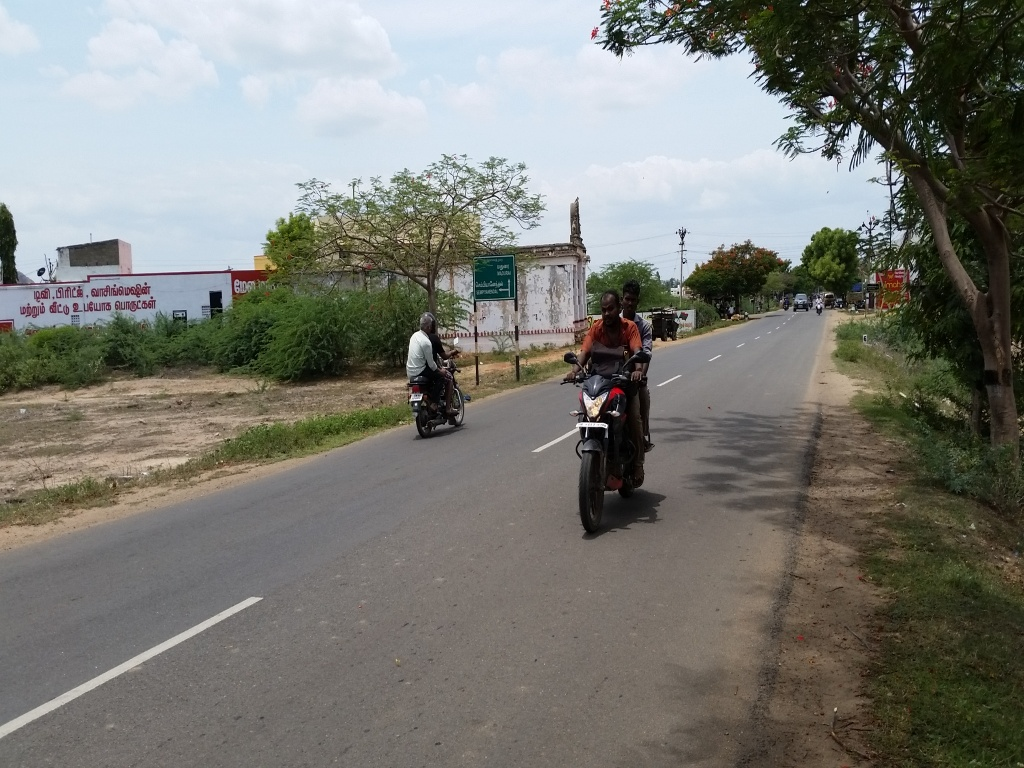biker: (549, 243, 685, 543), (395, 276, 483, 448)
nohelmet: (621, 272, 647, 324), (596, 280, 622, 332), (413, 304, 440, 341)
